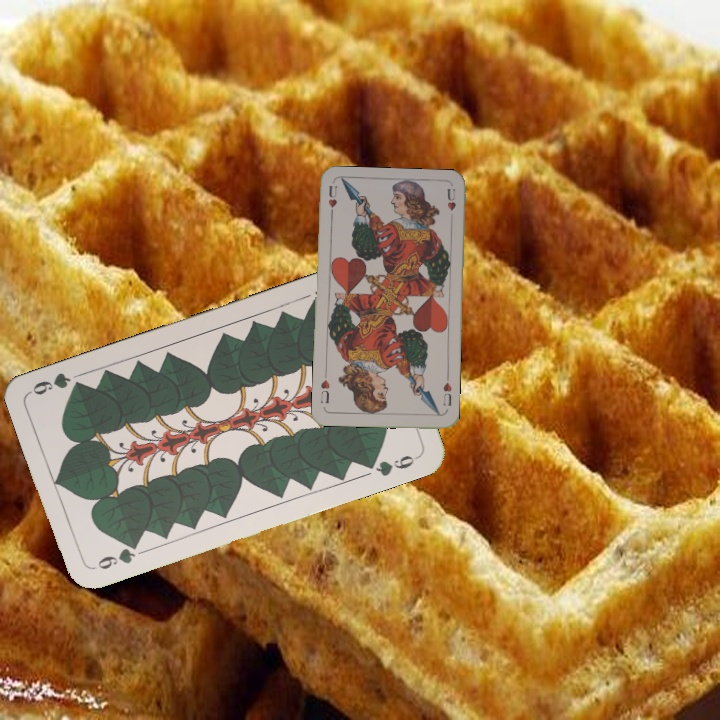G9: (94, 538, 142, 572)
HU: (324, 182, 340, 221), (439, 379, 454, 408)
